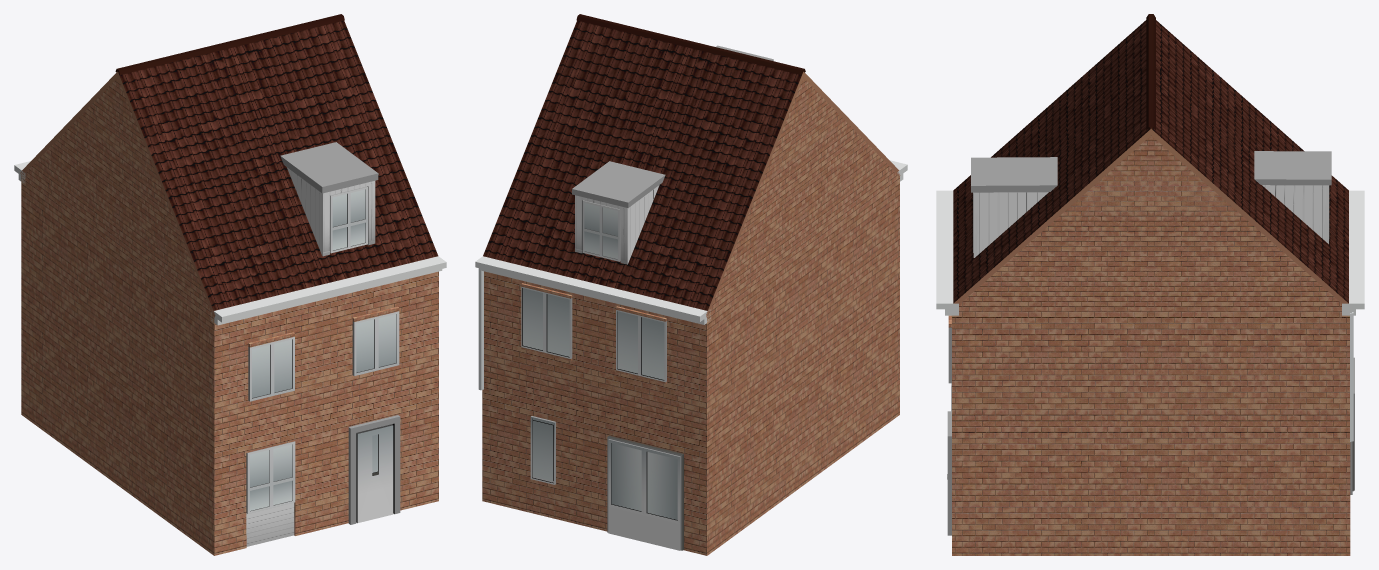
The model's file is Dwershus_10_en_It_Uleboerd_69.fbx.
3 renders of one model, left to right at view 1: azimuth 30°, elevation 25°; view 2: azimuth 150°, elevation 25°; view 3: azimuth 270°, elevation 25°, orthographic. The views are drawn at different scales.
Parts seen in each view (by area): view 1: Dwershus_10_en_It_Uleboerd_69; view 2: Dwershus_10_en_It_Uleboerd_69; view 3: Dwershus_10_en_It_Uleboerd_69.
Part boxes in pixels (box(x1,y1,x2,y2)): Dwershus_10_en_It_Uleboerd_69: box(14, 14, 446, 555); Dwershus_10_en_It_Uleboerd_69: box(475, 14, 907, 555); Dwershus_10_en_It_Uleboerd_69: box(936, 14, 1364, 555).
Bounding box in the file's own units: 609 × 1061 × 960.
